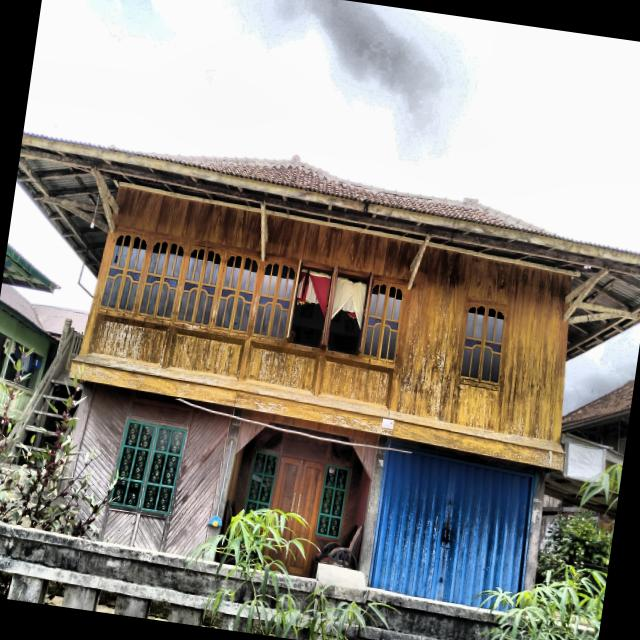door: (271, 457, 324, 541)
ornamen: (87, 314, 170, 368), (166, 327, 246, 381), (318, 355, 395, 410), (244, 341, 320, 396)
roof: (16, 133, 640, 357), (0, 243, 90, 341), (562, 379, 635, 431)
stair: (10, 327, 74, 449)
wall: (243, 214, 422, 410), (397, 245, 571, 443), (87, 186, 261, 381), (368, 444, 535, 605), (74, 386, 231, 555)
window: (287, 258, 336, 349), (98, 231, 151, 314), (325, 266, 373, 356), (136, 238, 188, 321), (175, 244, 225, 328), (212, 251, 261, 335), (459, 302, 508, 385), (251, 259, 298, 342), (361, 280, 406, 363), (316, 464, 350, 539), (243, 450, 279, 516)
